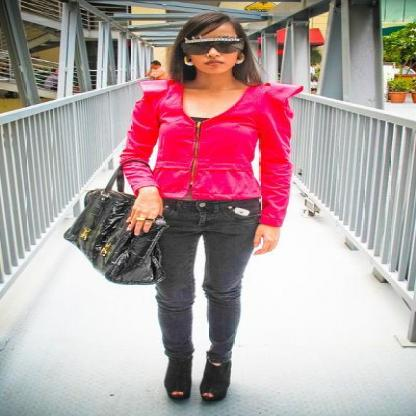bag: (63, 175, 172, 286)
jacket: (87, 77, 303, 226)
pants: (150, 196, 262, 365)
shoe: (164, 352, 230, 405)
sunglass: (198, 41, 233, 54)
